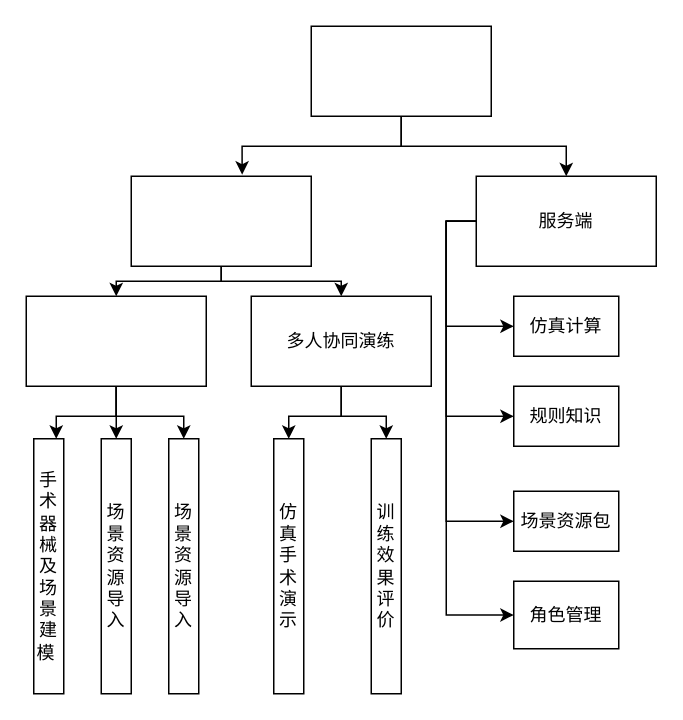
Image size: 683x720. Some labels were removed from this diagram. Each missing label, with the box of its shape:
多角色虚拟演示平台: (310, 25, 491, 116)
客户端: (130, 175, 311, 266)
虚拟现实场景: (25, 295, 206, 386)
